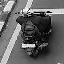motor: (18, 7, 49, 56)
